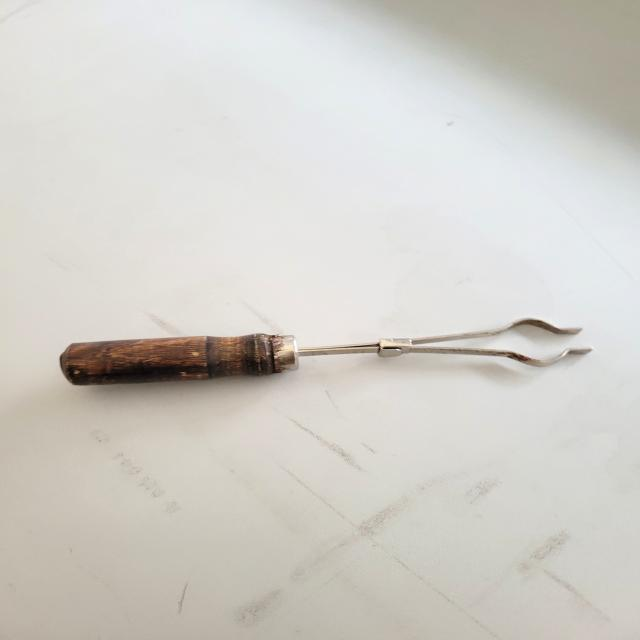TestTube_Holder: (32, 299, 604, 416)
